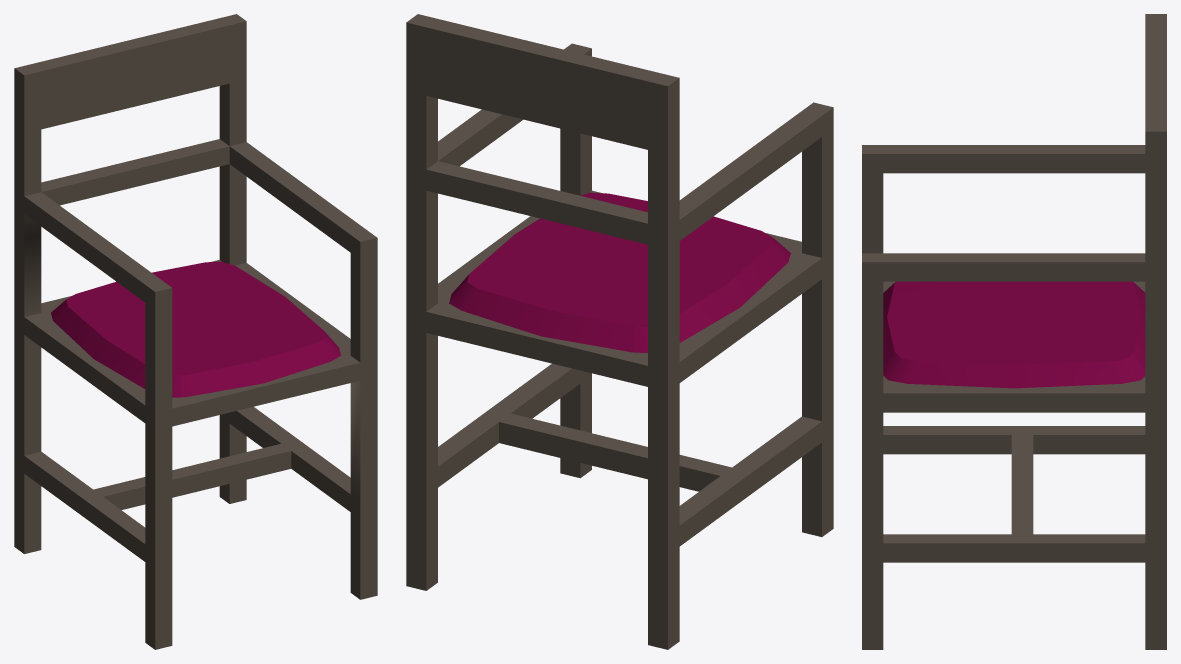
The model's file is SM_Prop_Chair_Exp_01.glb.
3 views of the same model, side by side, from view 1: azimuth 30°, elevation 25°; view 2: azimuth 150°, elevation 25°; view 3: azimuth 270°, elevation 25° (orthographic). The views are drawn at different scales.
Visible parts, largest first — view 1: SM_Prop_Chair_Exp_01; view 2: SM_Prop_Chair_Exp_01; view 3: SM_Prop_Chair_Exp_01.
Boxes of the visible parts, bbox=[...] form: SM_Prop_Chair_Exp_01: bbox=[14, 14, 377, 649]; SM_Prop_Chair_Exp_01: bbox=[406, 14, 833, 649]; SM_Prop_Chair_Exp_01: bbox=[862, 14, 1166, 649].
Size of the model in its own units: 0.5201 by 1.07 by 0.57.
Materials: 2 (1 with a texture image).
